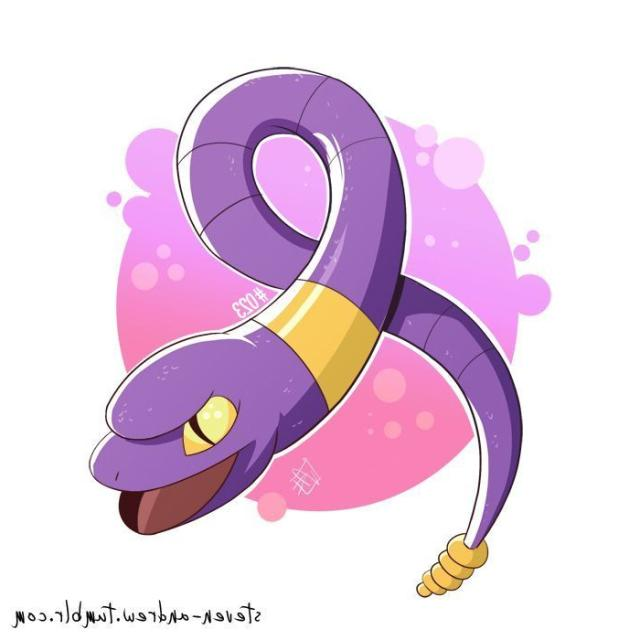Ekans: (83, 71, 442, 535)
